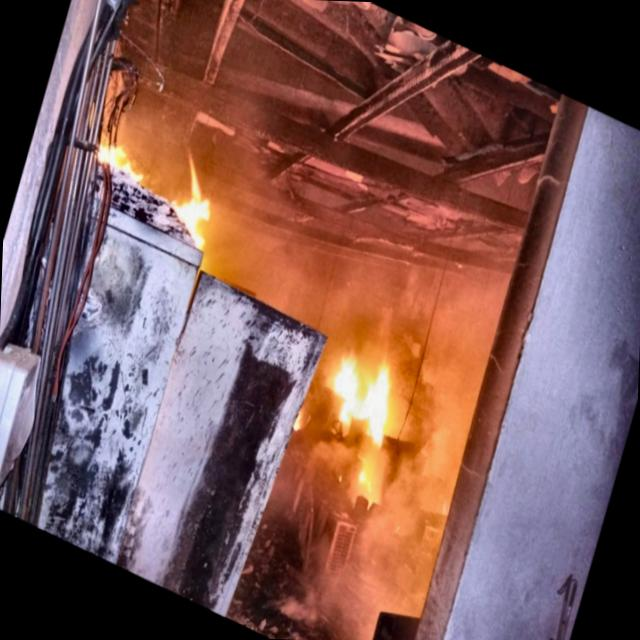fire: (77, 90, 274, 274), (296, 292, 433, 498)
